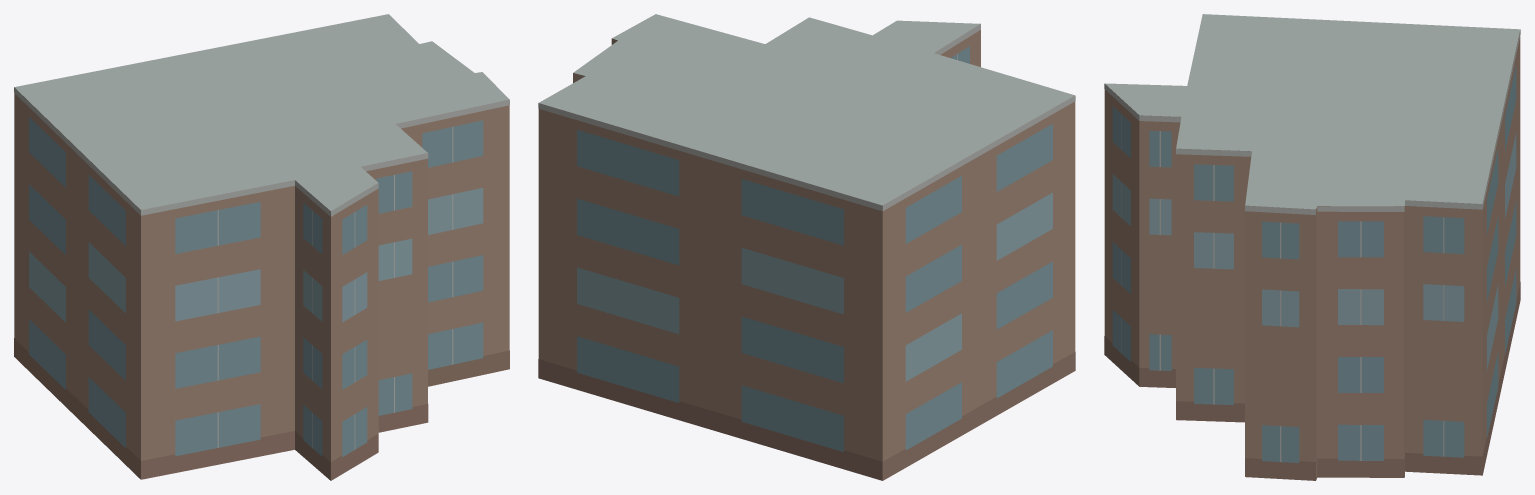
File: survey-upis-32890367.glb
The picture shows the model from 3 angles, left to right: view 1: azimuth 30°, elevation 25°; view 2: azimuth 150°, elevation 25°; view 3: azimuth 270°, elevation 25°; orthographic projection. The views are drawn at different scales.
Visible parts, largest first — view 1: survey-upis-32890367.tmp; view 2: survey-upis-32890367.tmp; view 3: survey-upis-32890367.tmp.
Boxes of the visible parts, <box> form: survey-upis-32890367.tmp: <box>14,14,509,480</box>; survey-upis-32890367.tmp: <box>538,14,1075,480</box>; survey-upis-32890367.tmp: <box>1104,14,1520,480</box>.
Bounding box in the file's own units: 18.08 × 11.7 × 16.25.
